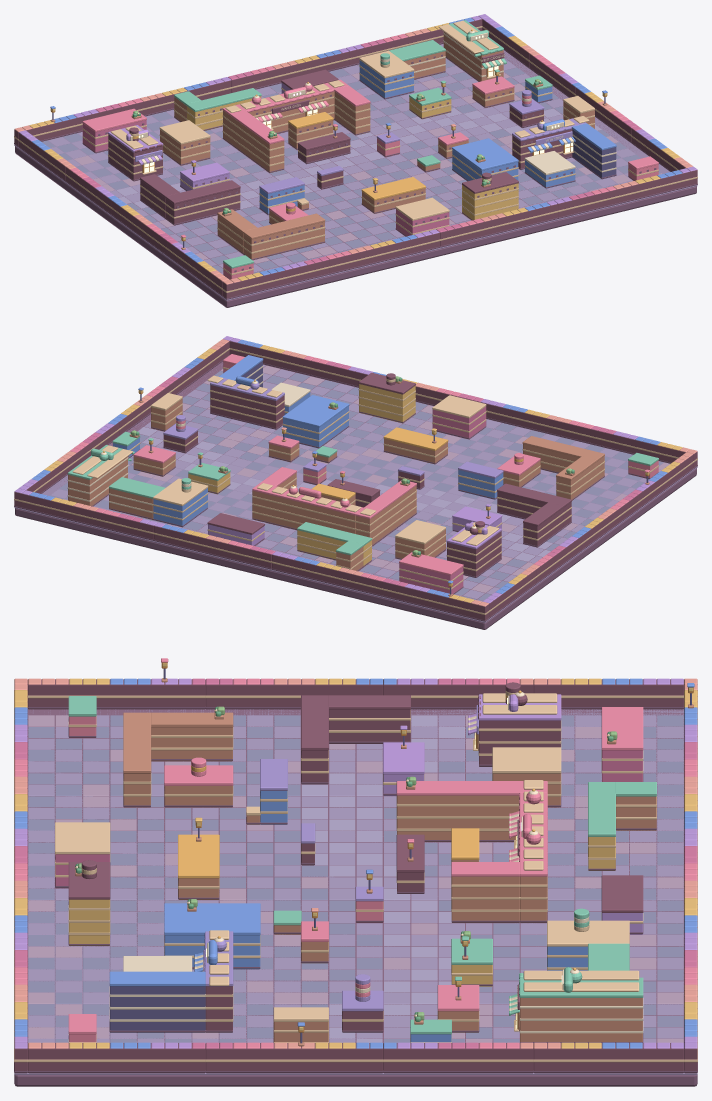
File: WaferYardTest.fbx
3 renders of one model, top to bottom at view 1: azimuth 30°, elevation 25°; view 2: azimuth 150°, elevation 25°; view 3: azimuth 270°, elevation 25°, orthographic. The views are drawn at different scales.
Parts seen in each view (by area): view 1: M006, M003, M000, M014, M007, M004, M010, M013, M001, M008, M016, M005 (+9 smaller); view 2: M006, M003, M014, M007, M004, M000, M010, M013, M001, M008, M002, M016 (+7 smaller); view 3: M003, M006, M004, M000, M007, M014, M013, M002, M010, M005, M016, M009 (+8 smaller).
Part boxes in pixels (<box>): M006: <box>14,16,697,299</box>; M003: <box>48,44,635,274</box>; M000: <box>14,42,697,307</box>; M014: <box>14,20,697,292</box>; M007: <box>50,32,607,260</box>; M004: <box>42,58,660,273</box>; M010: <box>31,17,682,275</box>; M013: <box>70,34,658,279</box>; M001: <box>14,44,697,300</box>; M008: <box>29,23,679,280</box>; M016: <box>174,20,552,268</box>; M005: <box>116,107,601,209</box>; M006: <box>14,338,697,621</box>; M003: <box>51,364,648,601</box>; M014: <box>14,348,697,614</box>; M007: <box>68,380,649,596</box>; M004: <box>50,371,663,600</box>; M000: <box>14,355,697,629</box>; M010: <box>29,339,667,597</box>; M013: <box>70,354,658,581</box>; M001: <box>14,364,697,622</box>; M008: <box>44,345,682,602</box>; M002: <box>128,365,669,592</box>; M016: <box>67,431,658,555</box>; M003: <box>28,715,683,1043</box>; M006: <box>14,679,697,1073</box>; M004: <box>28,715,683,1042</box>; M000: <box>14,707,697,1086</box>; M007: <box>75,678,693,1046</box>; M014: <box>14,690,697,1062</box>; M013: <box>14,658,697,1048</box>; M002: <box>28,715,683,1042</box>; M010: <box>14,678,697,1048</box>; M005: <box>301,715,464,1042</box>; M016: <box>68,696,656,1034</box>; M009: <box>14,678,697,1048</box>.
Size of the model in its own units: 6404 by 663 by 5004.
